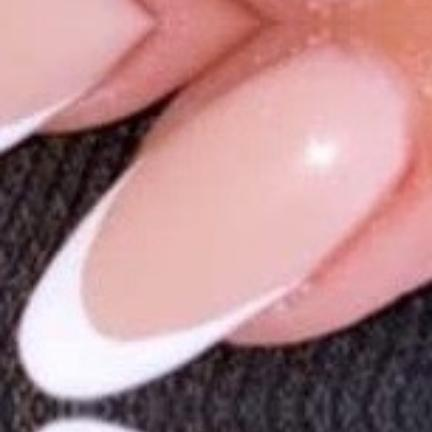Nail: (16, 38, 425, 399), (39, 419, 133, 432), (305, 0, 368, 6)
